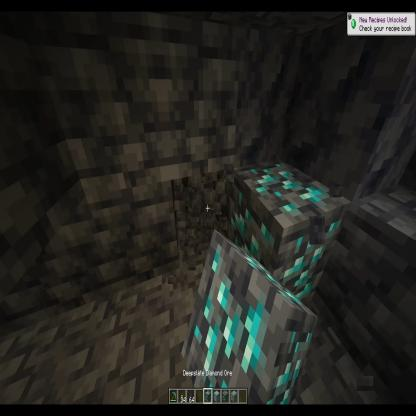diamond ore: (179, 230, 319, 416), (232, 160, 352, 319)
